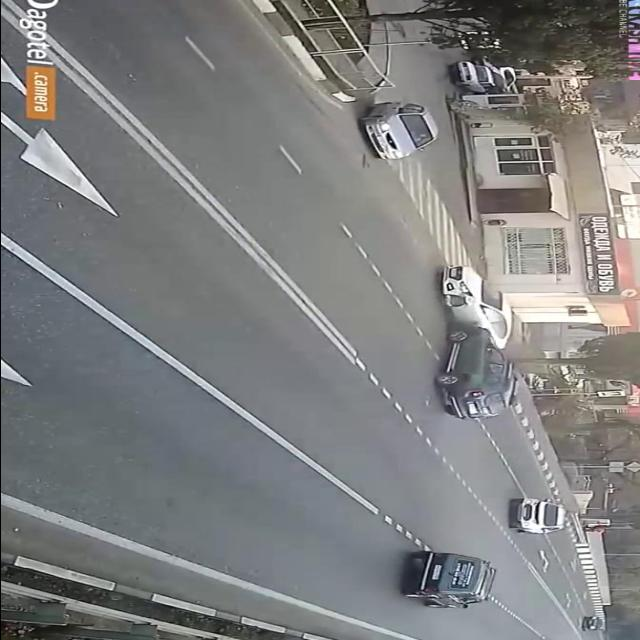accident: (433, 260, 531, 420)
